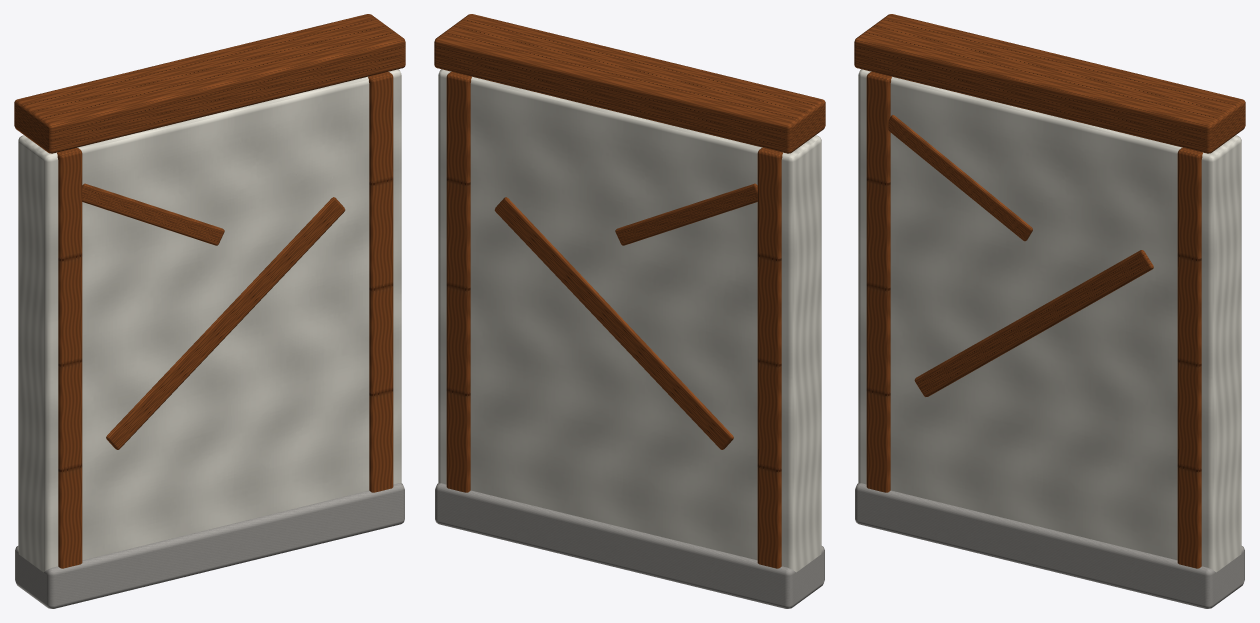
The model's file is witch-cottage-and-apothecary-cob-wall-section-b9c2305f__32432.glb.
3 renders of one model, left to right at view 1: azimuth 30°, elevation 25°; view 2: azimuth 150°, elevation 25°; view 3: azimuth 330°, elevation 25°, orthographic.
Parts seen in each view (by area): view 1: cob-wall-section; view 2: cob-wall-section; view 3: cob-wall-section.
Part boxes in pixels (bbox=[...]): cob-wall-section: bbox=[14, 14, 405, 608]; cob-wall-section: bbox=[434, 14, 825, 608]; cob-wall-section: bbox=[854, 14, 1245, 608].
Bounding box in the file's own units: 2 × 2.6 × 0.3599.
3 materials, 3 textured.
